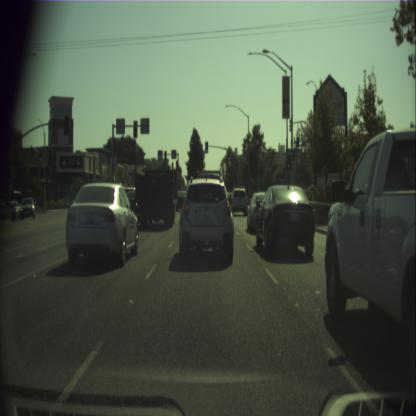Green: (286, 152, 291, 170), (205, 141, 208, 152), (248, 170, 251, 180), (176, 161, 178, 170)
off: (64, 116, 69, 134), (164, 150, 166, 161)
